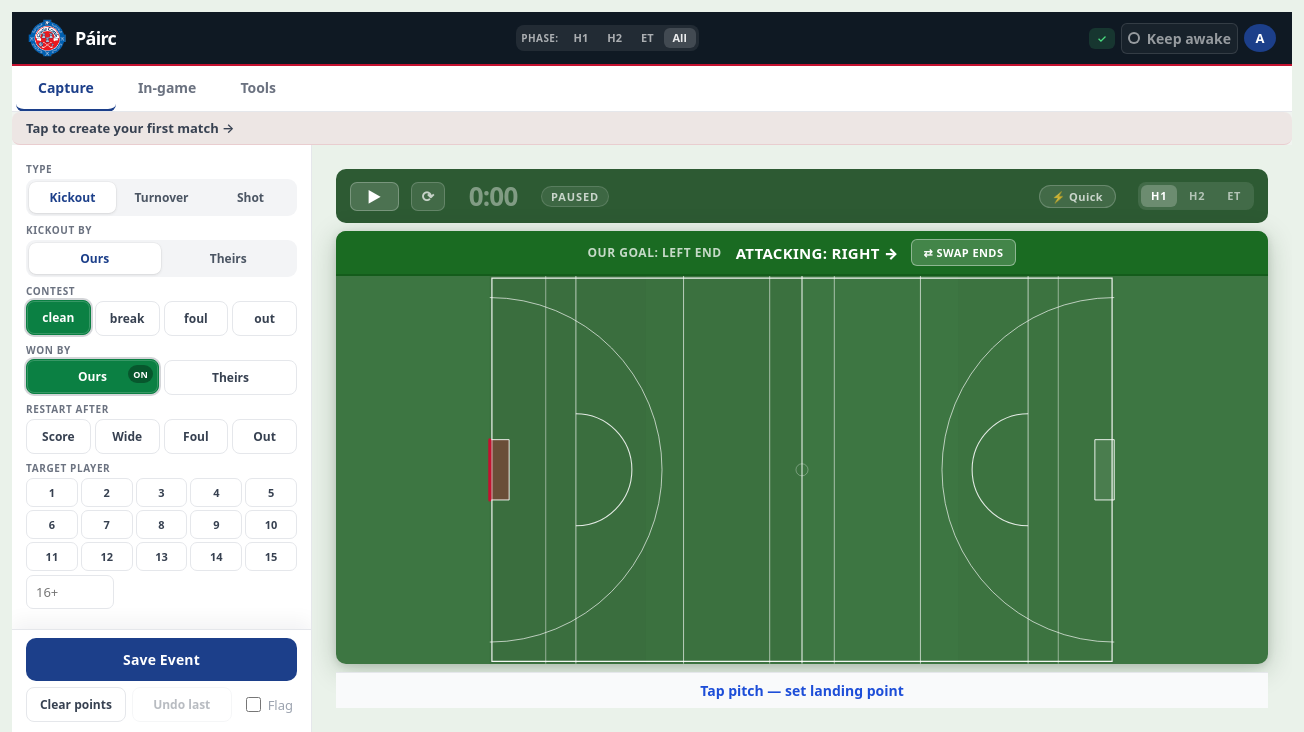
Test case: App shell auth and sync › exports a diagnostics report from the account menu
Click the button with class "avatar-btn" at (1260, 38), box [1244, 24, 1276, 52]
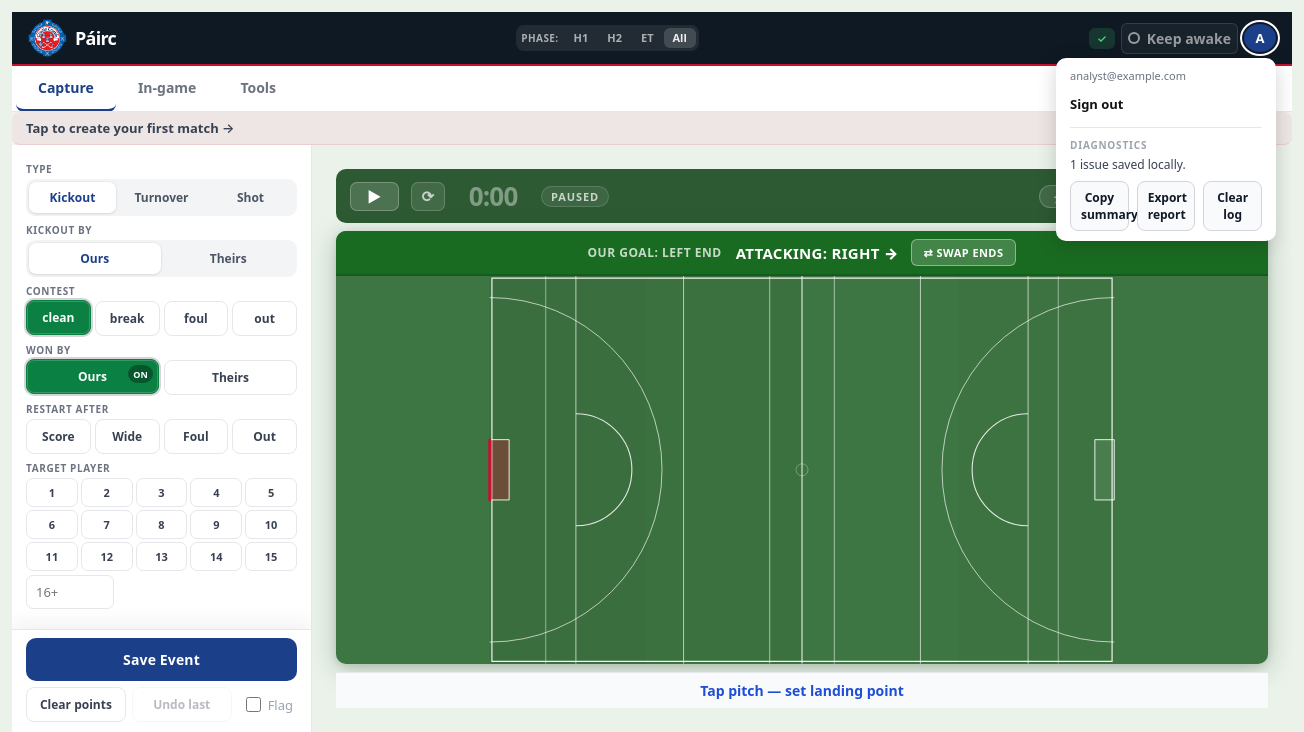
Click the button "Export report" at (1166, 206), box [1137, 181, 1195, 231]
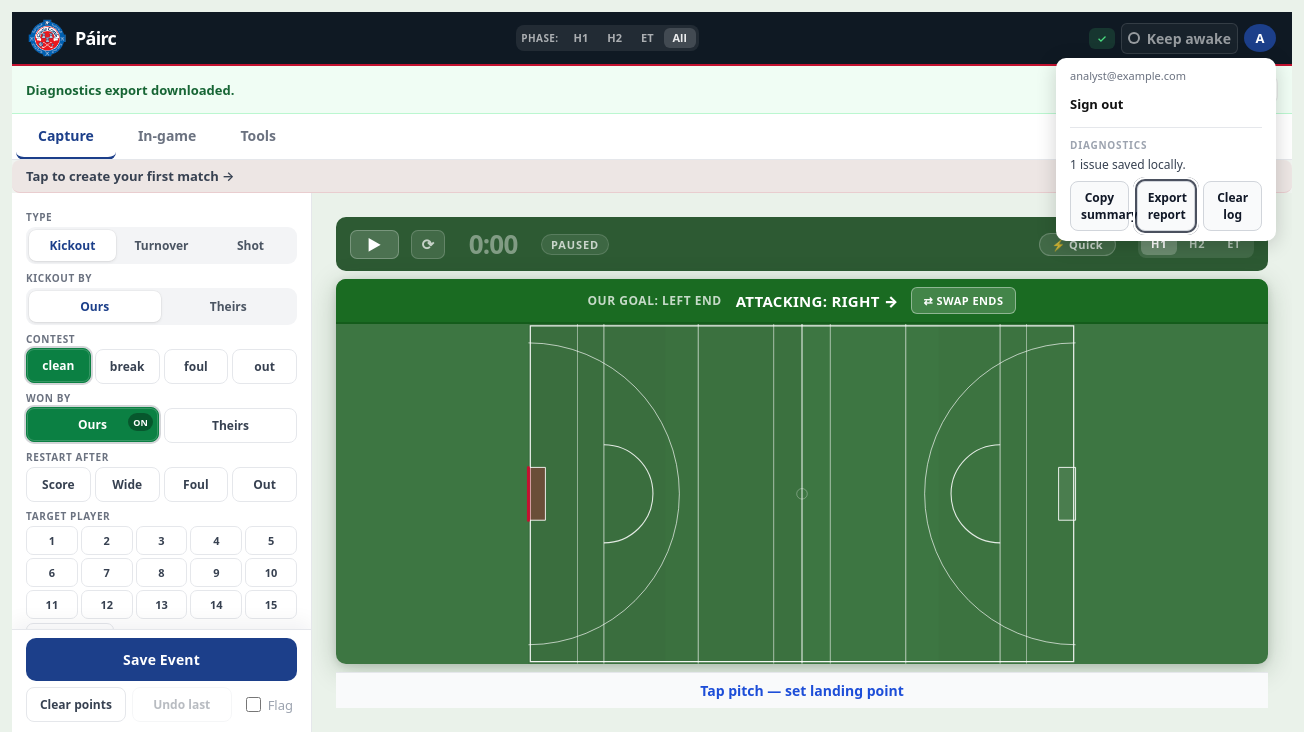
Expected: the text "Diagnostics export downloaded." is shown, [26, 80, 234, 98]
